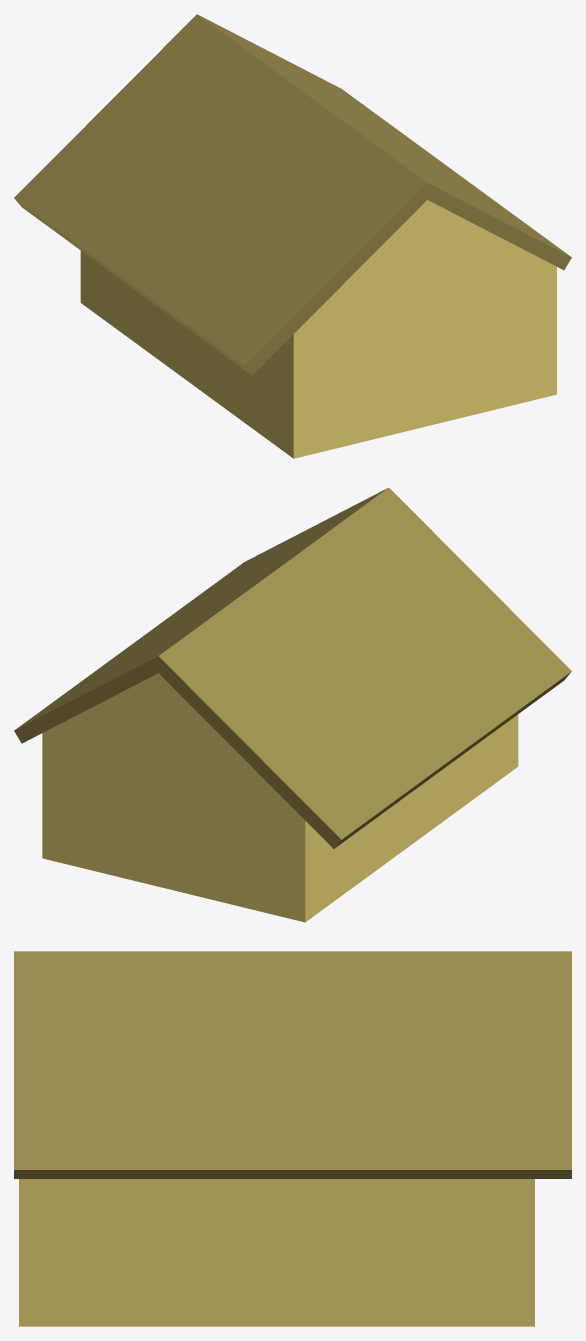
File: result.glb
3 views of the same model, one above another, from view 1: azimuth 30°, elevation 25°; view 2: azimuth 150°, elevation 25°; view 3: azimuth 270°, elevation 25° (orthographic). The views are drawn at different scales.
Parts seen in each view (by area): view 1: 8da95e48-78cb-4e5d-afc5-27b1e0647ea7__undefined (×2), 8bb13333-66cb-40cd-be4a-b2a53d1c1c20__undefined; view 2: 8da95e48-78cb-4e5d-afc5-27b1e0647ea7__undefined (×2), 8bb13333-66cb-40cd-be4a-b2a53d1c1c20__undefined; view 3: 8da95e48-78cb-4e5d-afc5-27b1e0647ea7__undefined, 8bb13333-66cb-40cd-be4a-b2a53d1c1c20__undefined.
Boxes of the visible parts, x1,y1,x2,y2 form: 8da95e48-78cb-4e5d-afc5-27b1e0647ea7__undefined (×2): [14, 14, 571, 375]; 8bb13333-66cb-40cd-be4a-b2a53d1c1c20__undefined: [80, 200, 556, 458]; 8da95e48-78cb-4e5d-afc5-27b1e0647ea7__undefined (×2): [14, 487, 571, 848]; 8bb13333-66cb-40cd-be4a-b2a53d1c1c20__undefined: [42, 673, 518, 922]; 8da95e48-78cb-4e5d-afc5-27b1e0647ea7__undefined: [14, 951, 571, 1178]; 8bb13333-66cb-40cd-be4a-b2a53d1c1c20__undefined: [19, 1179, 534, 1326].
Bounding box in the file's own units: 621 × 445 × 757.
